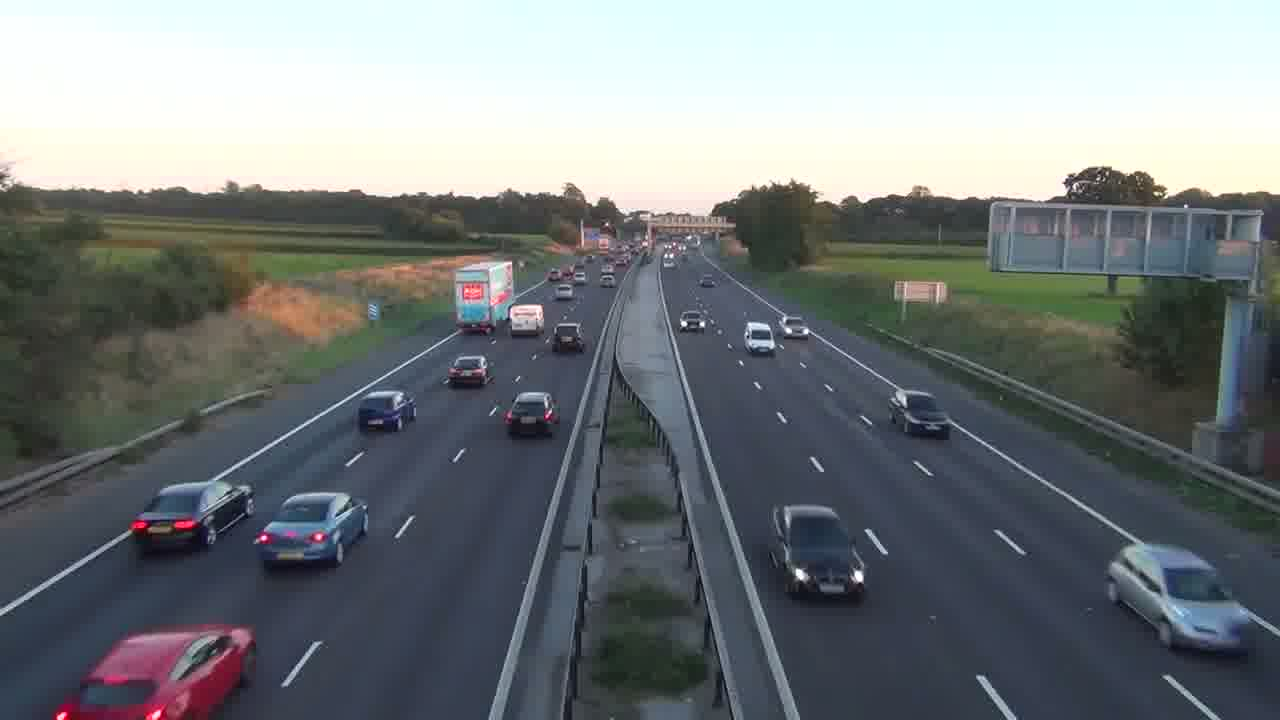car: (53, 622, 257, 719), (1104, 541, 1253, 656), (127, 477, 256, 553), (768, 503, 867, 600), (253, 490, 370, 569), (887, 388, 950, 438), (504, 390, 561, 438), (357, 389, 416, 432), (446, 354, 490, 388), (552, 321, 586, 355), (679, 309, 705, 332)
truck: (454, 258, 515, 333), (509, 303, 545, 338)
